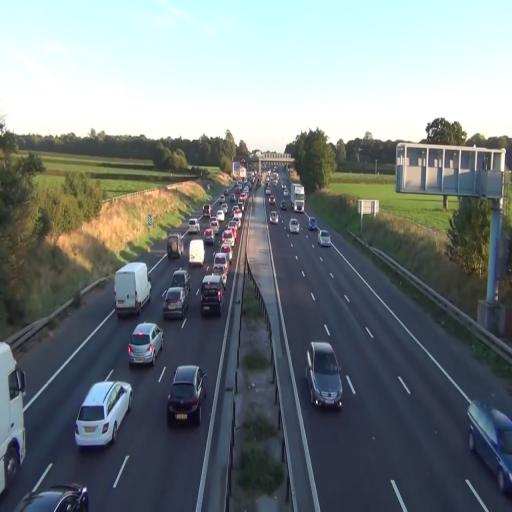vehicle: (467, 399, 512, 496), (0, 341, 27, 497), (0, 341, 27, 496), (74, 378, 132, 448), (14, 462, 90, 511), (305, 342, 343, 410), (167, 363, 207, 425), (114, 260, 151, 320), (114, 261, 151, 320), (14, 485, 90, 512), (127, 322, 163, 366), (162, 269, 190, 324), (161, 284, 190, 326), (198, 272, 224, 318), (212, 250, 229, 280), (291, 184, 305, 210), (318, 229, 331, 246), (288, 217, 300, 234), (269, 209, 279, 224)
